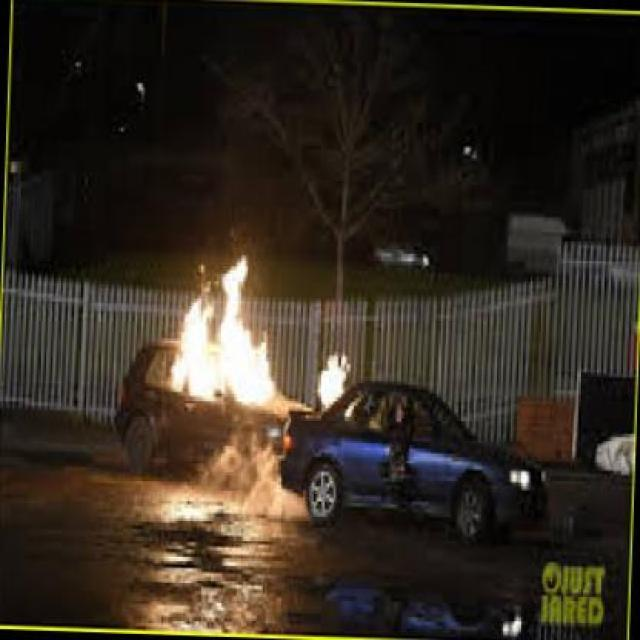Fire: (157, 254, 280, 426), (308, 358, 353, 418)
Smoke: (182, 431, 317, 536)
